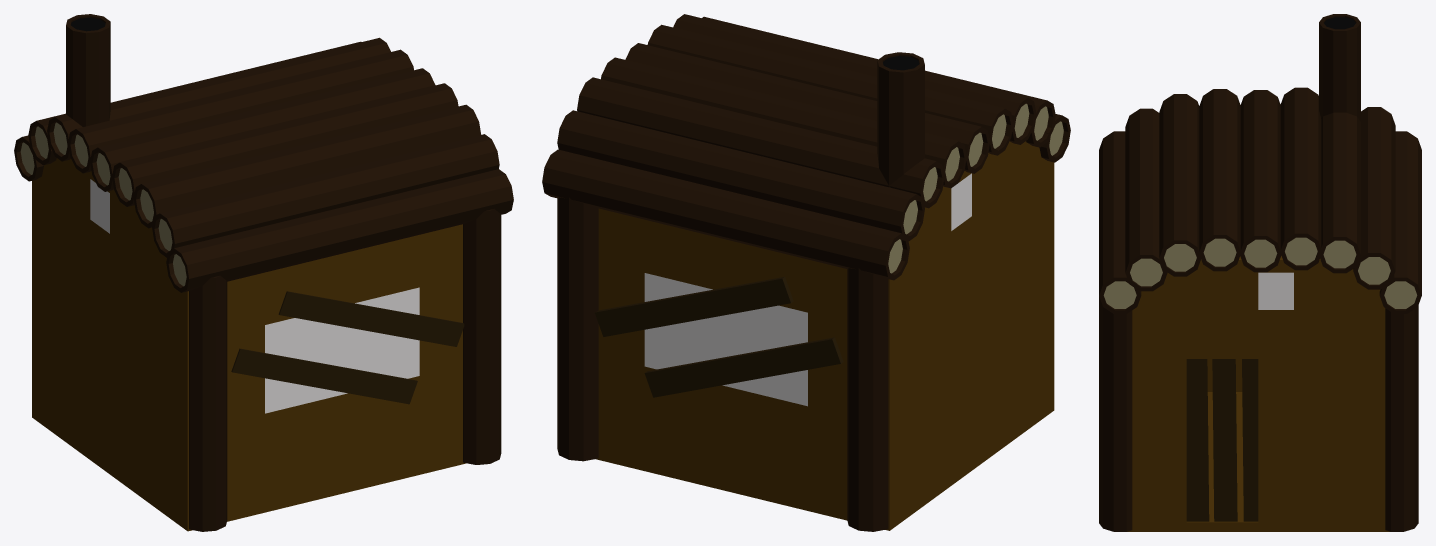
Rendered from shak.fbx.
The picture shows the model from 3 angles, left to right: view 1: azimuth 30°, elevation 25°; view 2: azimuth 150°, elevation 25°; view 3: azimuth 270°, elevation 25°; orthographic projection. The views are drawn at different scales.
Parts seen in each view (by area): view 1: Cube.003; view 2: Cube.003; view 3: Cube.003.
Part boxes in pixels (x1,y1,x2,y2): Cube.003: (14,14,513,531); Cube.003: (542,14,1070,531); Cube.003: (1099,14,1421,531).
Size of the model in its own units: 936 by 1137 by 873.
